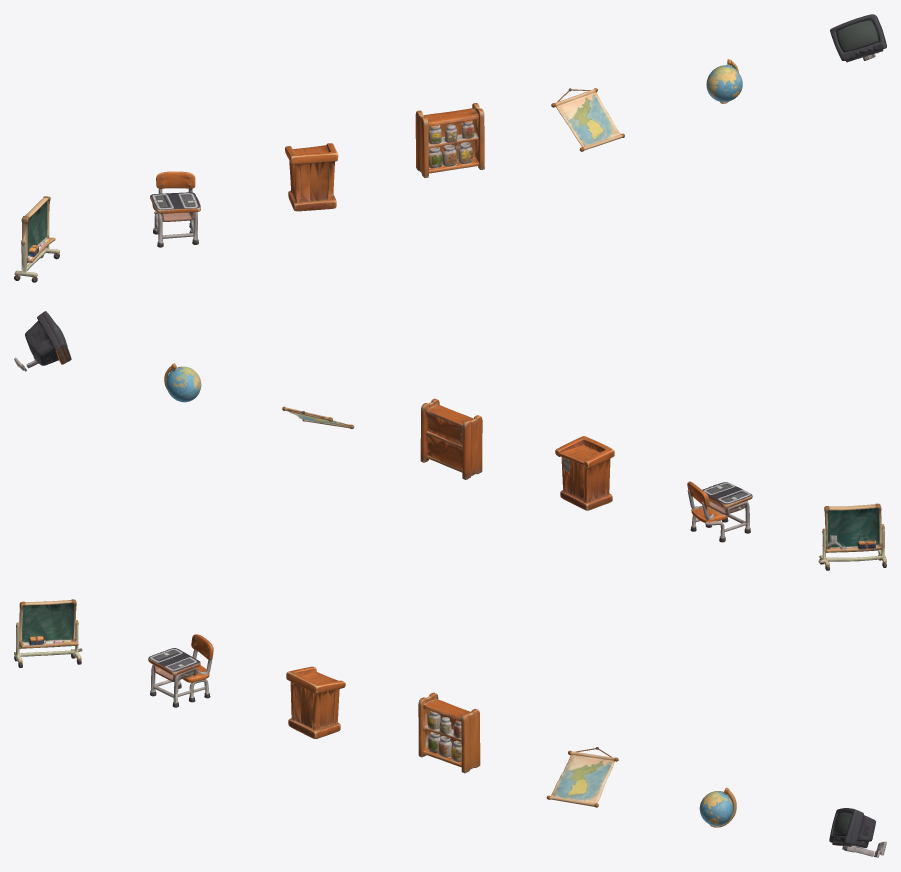
The model's file is set_lab.glb.
The picture shows the model from 3 angles, top to bottom: view 1: azimuth 30°, elevation 25°; view 2: azimuth 150°, elevation 25°; view 3: azimuth 330°, elevation 25°; orthographic projection. The views are drawn at different scales.
Visible parts, largest first — view 1: p3, p2, p1, p4, p6, p0, p5; view 2: p3, p0, p2, p1, p6, p5, p4; view 3: p3, p0, p2, p1, p4, p6, p5.
Part boxes in pixels (x1=…): p3: x1=415, y1=103, x2=484, y2=177; p2: x1=285, y1=143, x2=338, y2=211; p1: x1=150, y1=171, x2=200, y2=247; p4: x1=551, y1=88, x2=624, y2=151; p6: x1=830, y1=14, x2=886, y2=62; p0: x1=14, y1=196, x2=59, y2=282; p5: x1=706, y1=59, x2=742, y2=103; p3: x1=420, y1=398, x2=482, y2=479; p0: x1=818, y1=503, x2=886, y2=570; p2: x1=555, y1=436, x2=614, y2=510; p1: x1=687, y1=481, x2=752, y2=542; p6: x1=14, y1=311, x2=71, y2=371; p5: x1=164, y1=363, x2=201, y2=402; p4: x1=282, y1=406, x2=354, y2=428; p3: x1=418, y1=692, x2=480, y2=773; p0: x1=14, y1=599, x2=82, y2=667; p2: x1=286, y1=666, x2=345, y2=738; p1: x1=148, y1=634, x2=213, y2=707; p4: x1=546, y1=747, x2=618, y2=807; p6: x1=829, y1=808, x2=886, y2=857; p5: x1=699, y1=787, x2=736, y2=827.
Size of the model in its own units: 19.15 by 1.3 by 1.25.
Materials: 1 (1 with a texture image).
